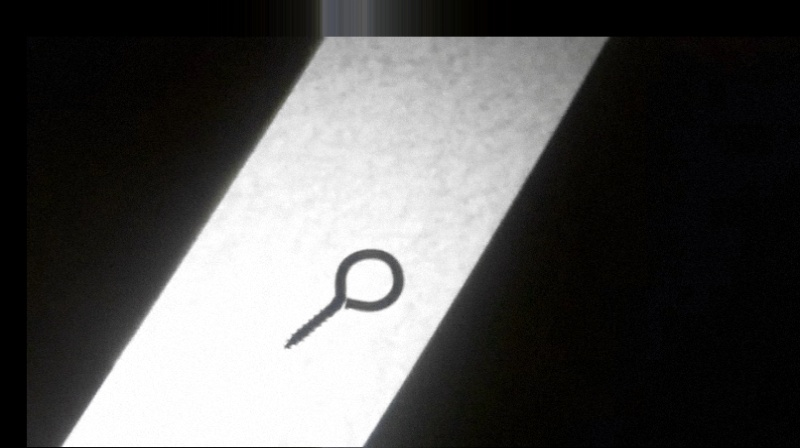O001: (279, 246, 407, 356)
